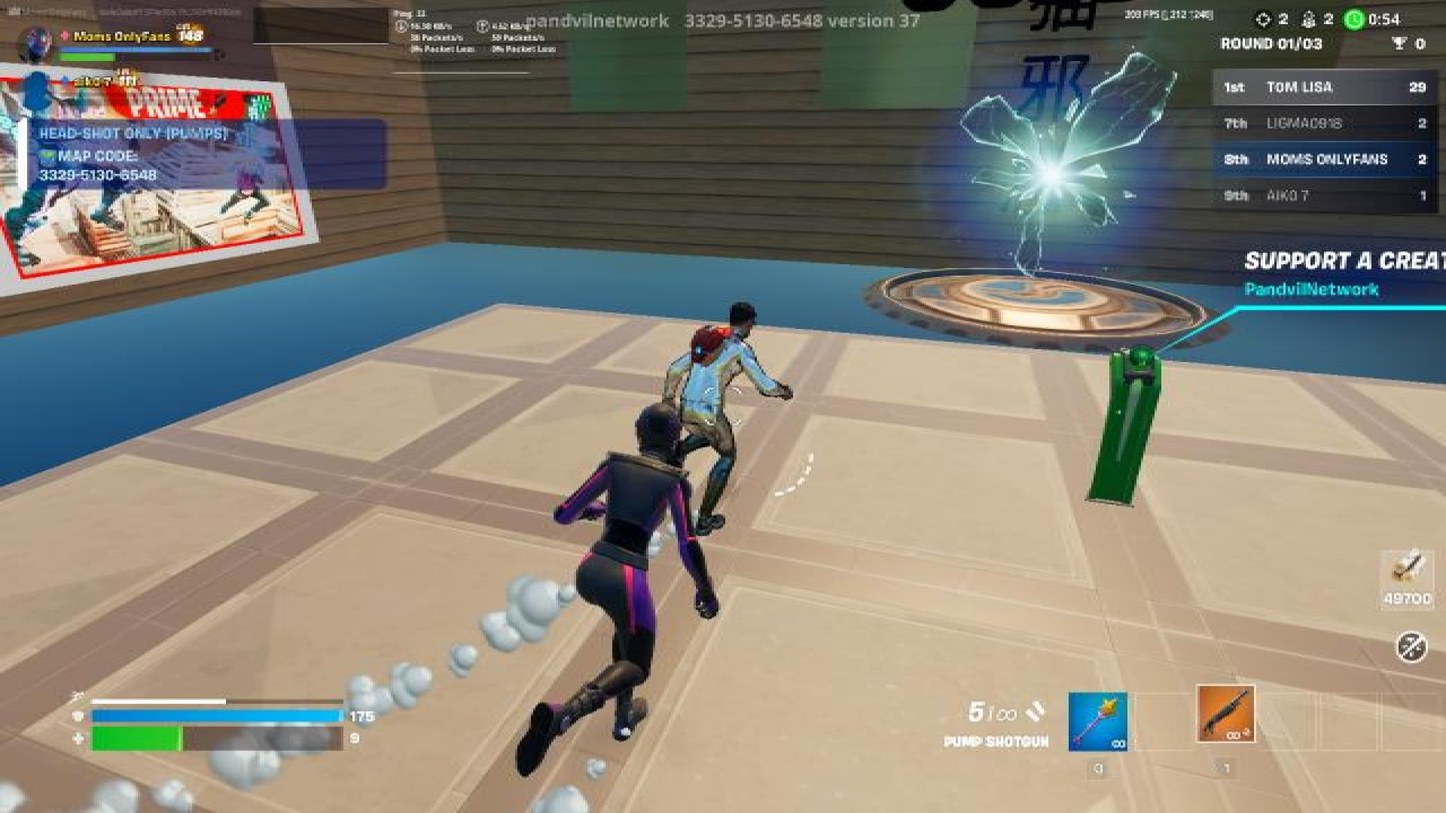player: (677, 281, 774, 538)
